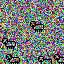sheep: (29, 20, 44, 33), (2, 37, 16, 49), (6, 53, 21, 64), (37, 56, 52, 64), (54, 53, 64, 64)
